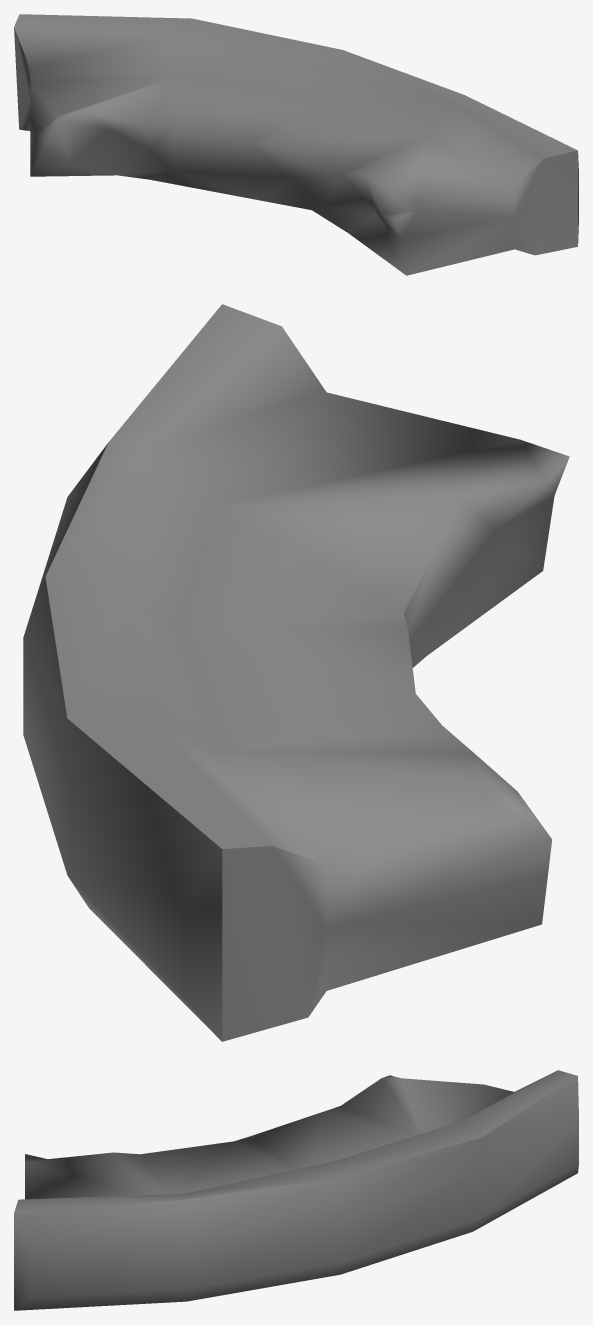
Rendered from SM_Pizza_Crust_02.obj.
3 views of the same model, one above another, from view 1: azimuth 30°, elevation 25°; view 2: azimuth 150°, elevation 25°; view 3: azimuth 270°, elevation 25° (orthographic). The views are drawn at different scales.
Visible parts, largest first — view 1: SM_Pizza_Crust_02_Mat_PolygonCity_Texture_01_B; view 2: SM_Pizza_Crust_02_Mat_PolygonCity_Texture_01_B; view 3: SM_Pizza_Crust_02_Mat_PolygonCity_Texture_01_B.
Boxes of the visible parts, left/top/right/bottom form: SM_Pizza_Crust_02_Mat_PolygonCity_Texture_01_B: left=14, top=14, right=578, bottom=275; SM_Pizza_Crust_02_Mat_PolygonCity_Texture_01_B: left=23, top=304, right=569, bottom=1041; SM_Pizza_Crust_02_Mat_PolygonCity_Texture_01_B: left=14, top=1070, right=578, bottom=1310.
Size of the model in its own units: 0.3351 by 0.0843 by 0.4435.
1 material, 1 textured.
